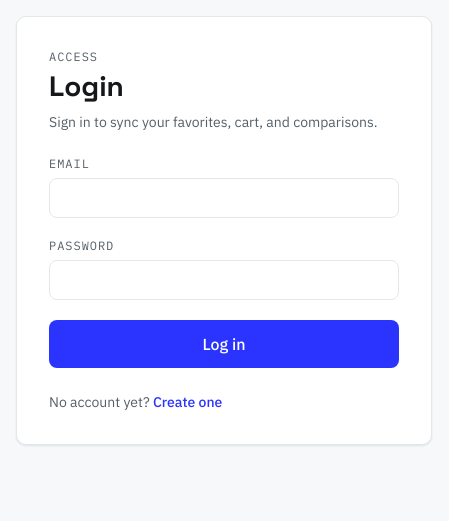
Test: Login › surfaces the server error message when credentials are rejected
Type "driver@volt.test" into the field labelled "Email" at (224,198), box [49,178,399,218]
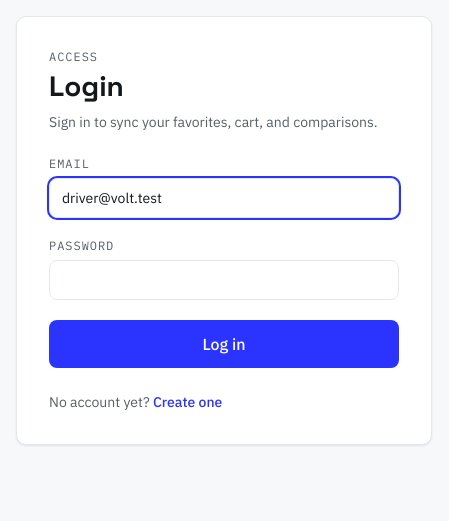
Type "wrongpass" into the password field labelled "Password" at (224,280), box [49,260,399,300]
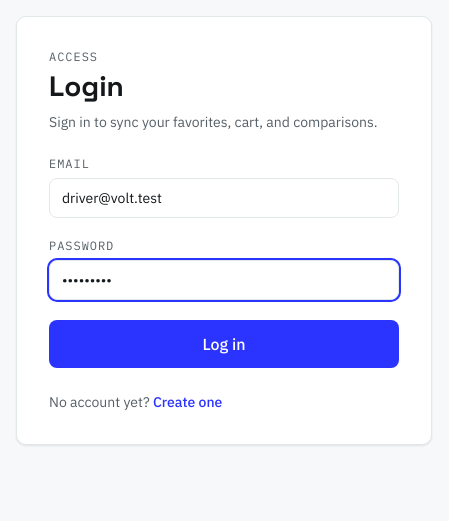
Click the button "Log in" at (224,344), box [49,320,399,368]
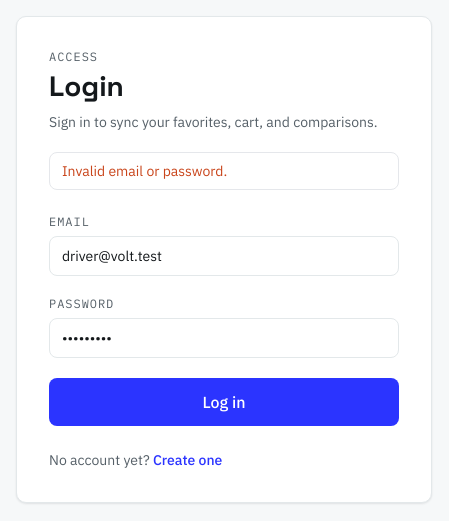
Now the message reads "Invalid email or password.", box [62,162,227,180]
